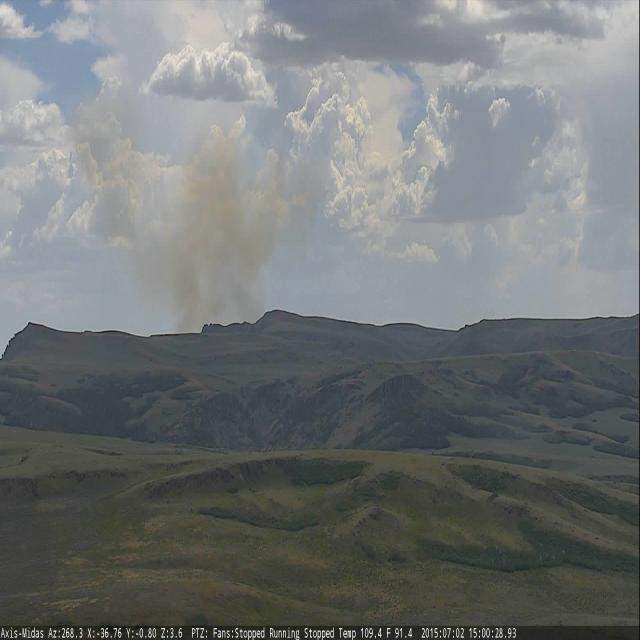smoke: (174, 137, 280, 335)
